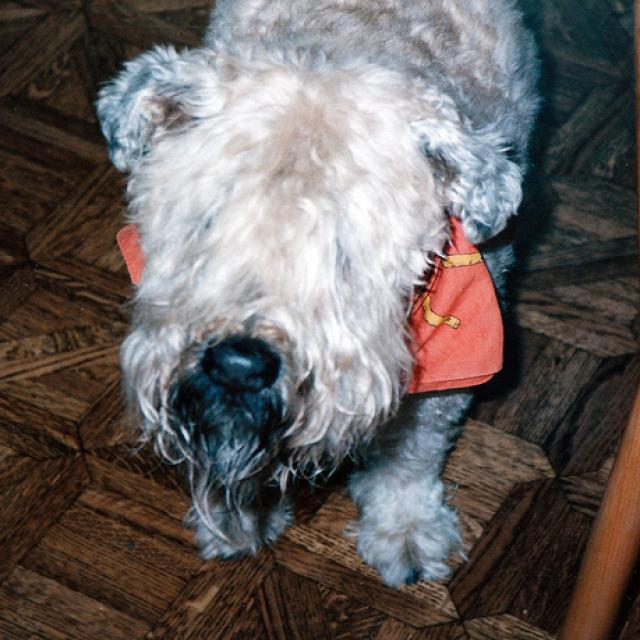dog-wheaten_terrier: (96, 1, 545, 585)
